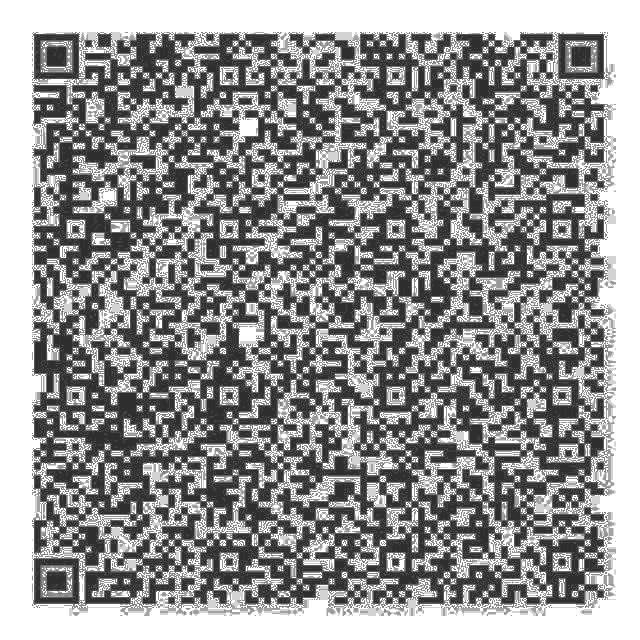qr_code: (15, 15, 621, 616)
